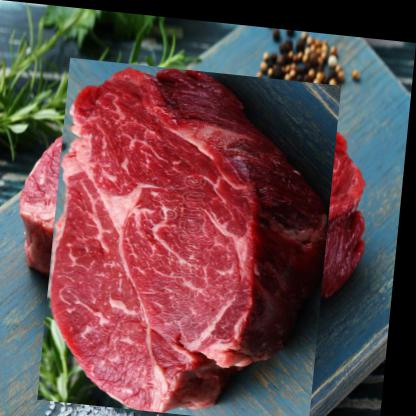raw_meat: (28, 72, 360, 405)
